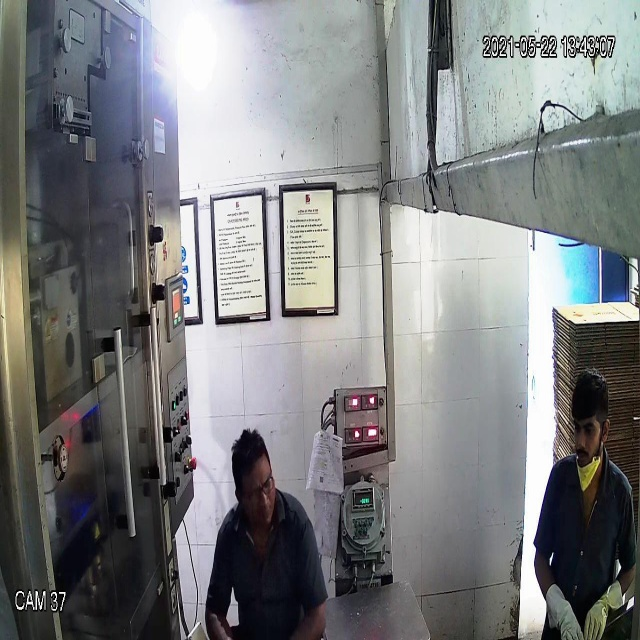Gafas: (229, 473, 280, 505)
Sin_gafas: (568, 412, 600, 444)
